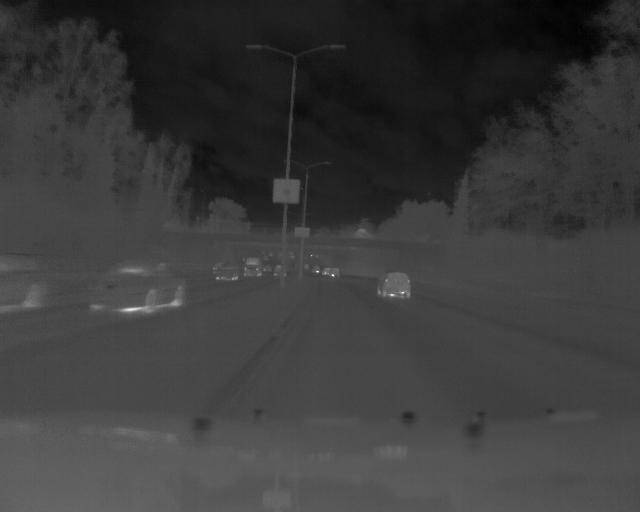car: (87, 255, 187, 315), (1, 249, 52, 307), (374, 269, 415, 300), (214, 256, 239, 282), (242, 255, 265, 278), (329, 267, 340, 277), (311, 264, 320, 274)
